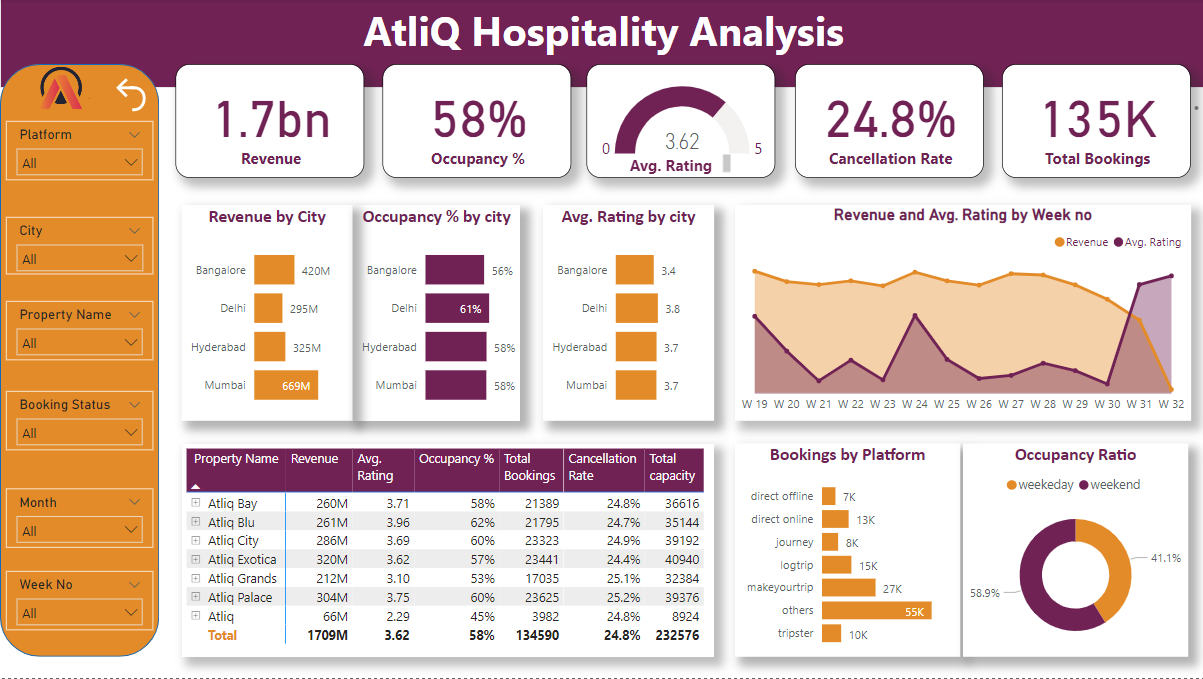

This screenshot's page, from the dashboard's own definition file:
{"tool":"powerbi","page":{"name":"Revenue","canvas":[1280,720],"ordinal":0},"visuals":[{"type":"textbox","box":[0,0,1279.5,95.4],"z":0},{"type":"group","id":"g1","title":"Group 1","box":[0,69.9,168.5,627.8],"z":1000},{"type":"card","fields":{"Values":["Resource Measure.Revenue"]},"box":[186,69.9,200.3,120.8],"z":2000},{"type":"card","fields":{"Values":["Resource Measure.Occupancy %"]},"box":[405.3,69.9,200.3,120.8],"z":3000},{"type":"gauge","fields":{"MinValue":["Resource Measure.Minimum Rating"],"MaxValue":["Resource Measure.Target Rating"],"Y":["Resource Measure.avg.rating mod"]},"box":[621.5,69.9,200.3,120.8],"z":4000},{"type":"card","fields":{"Values":["Resource Measure.CR"]},"box":[842.4,69.9,200.3,120.8],"z":5000},{"type":"card","fields":{"Values":["Resource Measure.Total Bookings"]},"box":[1061.7,69.9,200.3,120.8],"z":6000},{"type":"clusteredBarChart","title":"Revenue by City","fields":{"Y":["Resource Measure.Revenue"],"Category":["dim_hotels.city"]},"box":[192.3,219.3,181.2,228.9],"z":7000},{"type":"clusteredBarChart","title":"Avg. Rating by city","fields":{"Category":["dim_hotels.city"],"Y":["Resource Measure.avg.rating mod"]},"box":[575.4,219.3,181.2,228.9],"z":8000},{"type":"shape","box":[0,69.9,168.5,627.8],"z":9000,"group":"g1"},{"type":"clusteredBarChart","fields":{"Y":["Resource Measure.Occupancy %"],"Category":["dim_hotels.city"]},"box":[373.5,219.3,178,228.9],"z":9000},{"type":"slicer","fields":{"Values":["fact_bookings.booking_platform"]},"box":[6.7,130.3,156,62.5],"z":10000,"group":"g1"},{"type":"areaChart","title":"Revenue and Avg. Rating by Week no","fields":{"Category":["dim_date.week no"],"Y2":["Resource Measure.Avg. Rating"],"Y":["Resource Measure.Revenue"]},"box":[778.8,219.3,483.2,228.9],"z":10000},{"type":"clusteredBarChart","title":"Bookings by Platform","fields":{"Category":["fact_bookings.booking_platform"],"Y":["Resource Measure.Total Bookings"]},"box":[778.8,472.1,238.4,225.7],"z":11000},{"type":"slicer","fields":{"Values":["dim_hotels.property_name"]},"box":[6.7,321.2,156,62.5],"z":12000,"group":"g1"},{"type":"donutChart","title":"Occupancy Ratio","fields":{"Y":["Resource Measure.Occupancy %"],"Category":["dim_date.day_type"]},"box":[1020.4,472.1,238.4,225.7],"z":12000},{"type":"slicer","fields":{"Values":["fact_bookings.booking_status"]},"box":[6.7,416.6,156,62.5],"z":13000,"group":"g1"},{"type":"pivotTable","fields":{"Rows":["dim_hotels.property_name","dim_hotels.city"],"Values":["Resource Measure.Revenue","Resource Measure.Avg. Rating","Resource Measure.Occupancy %","Resource Measure.Total Bookings","Resource Measure.CR","Resource Measure.Total capacity"]},"box":[192.3,472.1,564.2,225.7],"z":13000},{"type":"textbox","box":[650.1,160.5,128.7,30.2],"z":14000},{"type":"slicer","fields":{"Values":["dim_date.month"]},"box":[6.7,520.5,156,62.5],"z":14000,"group":"g1"},{"type":"slicer","fields":{"Values":["dim_hotels.city"]},"box":[6.4,232.1,156,60.4],"z":15000},{"type":"slicer","fields":{"Values":["dim_date.week no"]},"box":[6.7,606.3,156,62.5],"z":15000,"group":"g1"},{"type":"image","title":"atliq","box":[23.8,58.8,76.3,73.1],"z":17000},{"type":"actionButton","box":[116,74.7,46.1,55.6],"z":17001}]}

Visuals, with their boxes in screenshot pixels (x1, y1, x2, y2), scaled from the page's 1280x720 canvas onto the 1203x679 screenshot:
textbox: pyautogui.locateOnScreen(0, 0, 1202, 90)
"Group 1" group: pyautogui.locateOnScreen(0, 66, 158, 658)
card - Resource Measure.Revenue: pyautogui.locateOnScreen(175, 66, 363, 180)
card - Resource Measure.Occupancy %: pyautogui.locateOnScreen(381, 66, 569, 180)
gauge - Resource Measure.Minimum Rating x Resource Measure.Target Rating: pyautogui.locateOnScreen(584, 66, 772, 180)
card - Resource Measure.CR: pyautogui.locateOnScreen(792, 66, 980, 180)
card - Resource Measure.Total Bookings: pyautogui.locateOnScreen(998, 66, 1186, 180)
"Revenue by City" clusteredBarChart: pyautogui.locateOnScreen(181, 207, 351, 423)
"Avg. Rating by city" clusteredBarChart: pyautogui.locateOnScreen(541, 207, 711, 423)
shape: pyautogui.locateOnScreen(0, 66, 158, 658)
clusteredBarChart - Resource Measure.Occupancy % x dim_hotels.city: pyautogui.locateOnScreen(351, 207, 518, 423)
slicer - fact_bookings.booking_platform: pyautogui.locateOnScreen(6, 123, 153, 182)
"Revenue and Avg. Rating by Week no" areaChart: pyautogui.locateOnScreen(732, 207, 1186, 423)
"Bookings by Platform" clusteredBarChart: pyautogui.locateOnScreen(732, 445, 956, 658)
slicer - dim_hotels.property_name: pyautogui.locateOnScreen(6, 303, 153, 362)
"Occupancy Ratio" donutChart: pyautogui.locateOnScreen(959, 445, 1183, 658)
slicer - fact_bookings.booking_status: pyautogui.locateOnScreen(6, 393, 153, 452)
pivotTable - dim_hotels.property_name x dim_hotels.city: pyautogui.locateOnScreen(181, 445, 711, 658)
textbox: pyautogui.locateOnScreen(611, 151, 732, 180)
slicer - dim_date.month: pyautogui.locateOnScreen(6, 491, 153, 550)
slicer - dim_hotels.city: pyautogui.locateOnScreen(6, 219, 153, 276)
slicer - dim_date.week no: pyautogui.locateOnScreen(6, 572, 153, 631)
"atliq" image: pyautogui.locateOnScreen(22, 55, 94, 124)
actionButton: pyautogui.locateOnScreen(109, 70, 152, 123)
